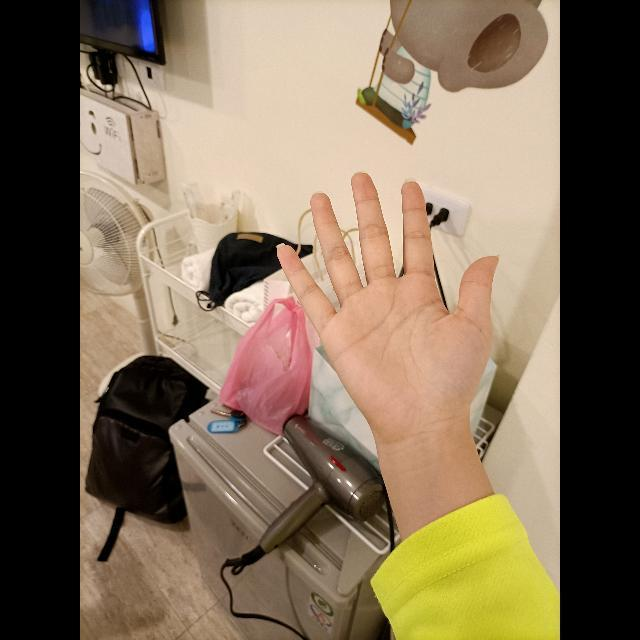bare_hand: (256, 161, 511, 454)
